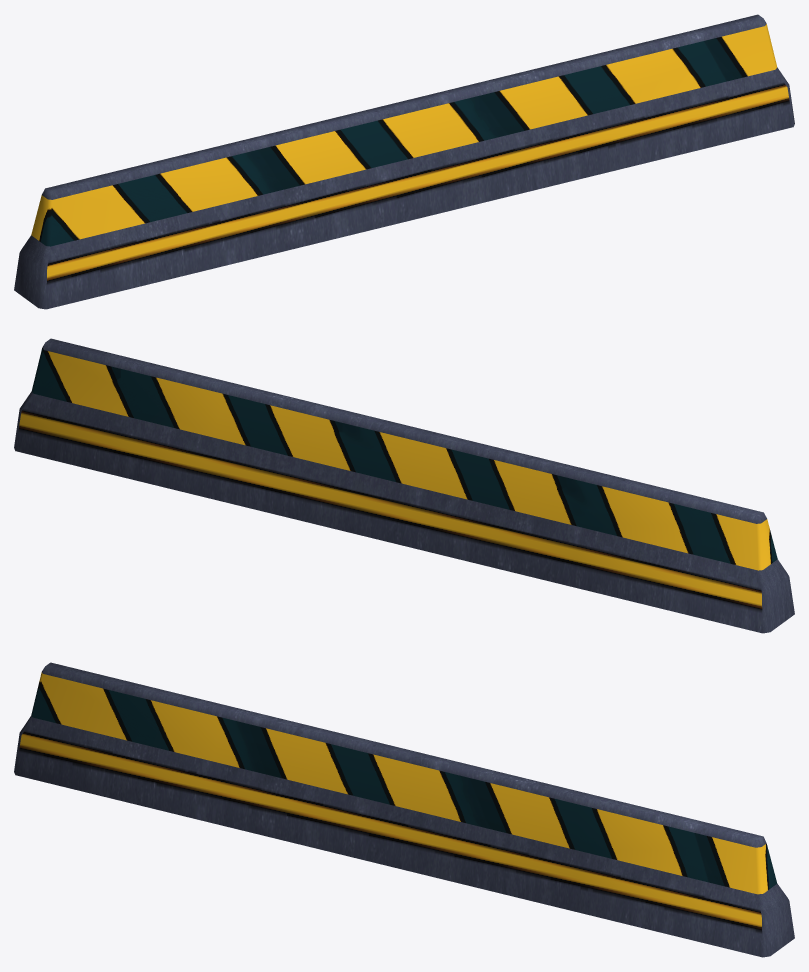
Rendered from WaterBarrier.fbx.
The picture shows the model from 3 angles, top to bottom: view 1: azimuth 30°, elevation 25°; view 2: azimuth 150°, elevation 25°; view 3: azimuth 330°, elevation 25°; orthographic projection.
Visible parts, largest first — view 1: Box218; view 2: Box218; view 3: Box218.
Boxes of the visible parts, x1,y1,x2,y2 form: Box218: (14, 14, 794, 309); Box218: (14, 338, 794, 633); Box218: (14, 662, 794, 957).
Bounding box in the file's own units: 329 × 43.02 × 23.25.
